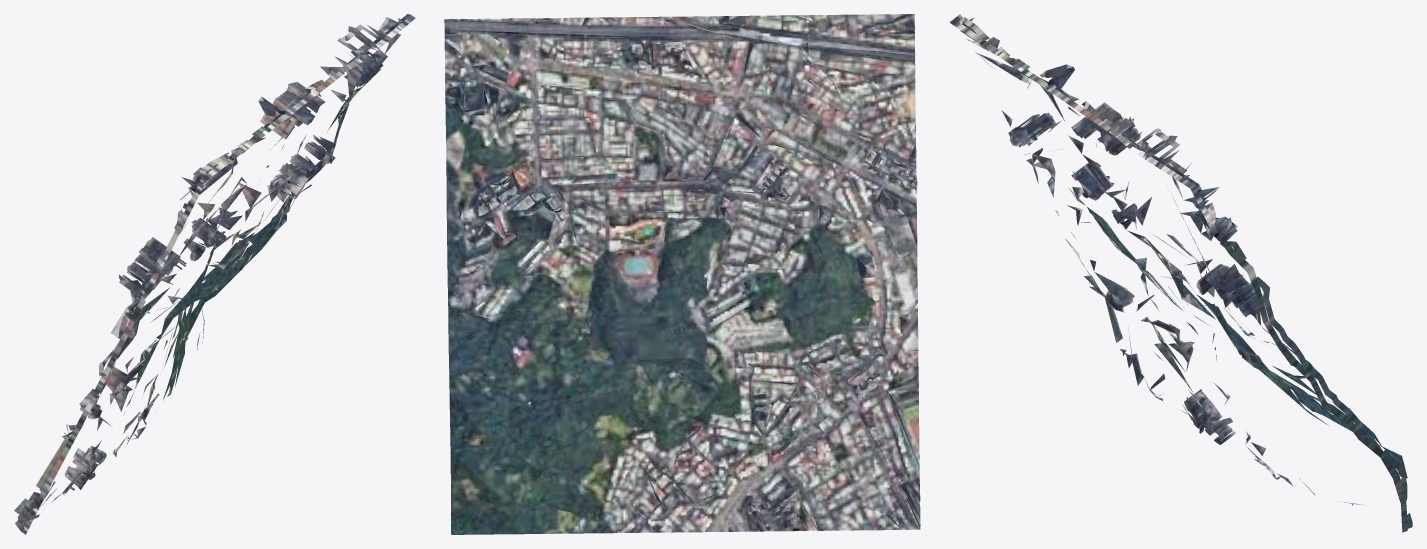
The picture shows the model from 3 angles, left to right: view 1: azimuth 30°, elevation 25°; view 2: azimuth 150°, elevation 25°; view 3: azimuth 270°, elevation 25°; orthographic projection. The views are drawn at different scales.
Bounding box in the file's own units: 1234 × 1141 × 1115.
Materials: 2 (2 with a texture image).
